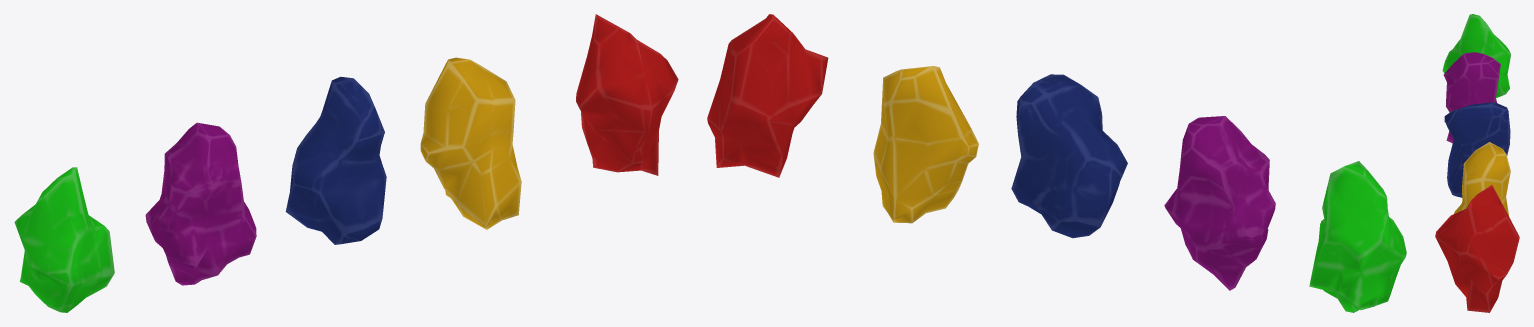
Rendered from stylized_crystal_gems_asset_pack.glb.
3 renders of one model, left to right at view 1: azimuth 30°, elevation 25°; view 2: azimuth 150°, elevation 25°; view 3: azimuth 270°, elevation 25°, orthographic. The views are drawn at different scales.
Parts seen in each view (by area): view 1: 4_4.001_0, 2_2_0, 3_3_0, 5_5_0, 1_1_0; view 2: 3_3_0, 2_2_0, 5_5_0, 4_4.001_0, 1_1_0; view 3: 5_5_0, 3_3_0, 2_2_0, 4_4.001_0, 1_1_0.
Part boxes in pixels (<box>): 4_4.001_0: <box>420,57,521,229</box>; 2_2_0: <box>145,122,256,285</box>; 3_3_0: <box>285,76,386,244</box>; 5_5_0: <box>576,14,678,175</box>; 1_1_0: <box>14,167,114,312</box>; 3_3_0: <box>1011,74,1127,238</box>; 2_2_0: <box>1164,116,1275,290</box>; 5_5_0: <box>707,14,828,177</box>; 4_4.001_0: <box>873,66,978,223</box>; 1_1_0: <box>1309,161,1406,312</box>; 5_5_0: <box>1435,185,1519,312</box>; 3_3_0: <box>1444,102,1510,197</box>; 2_2_0: <box>1443,52,1500,143</box>; 4_4.001_0: <box>1454,142,1510,216</box>; 1_1_0: <box>1442,14,1510,98</box>.
Bounding box in the file's own units: 2076 × 499 × 340.
Materials: 5 (5 with a texture image).
